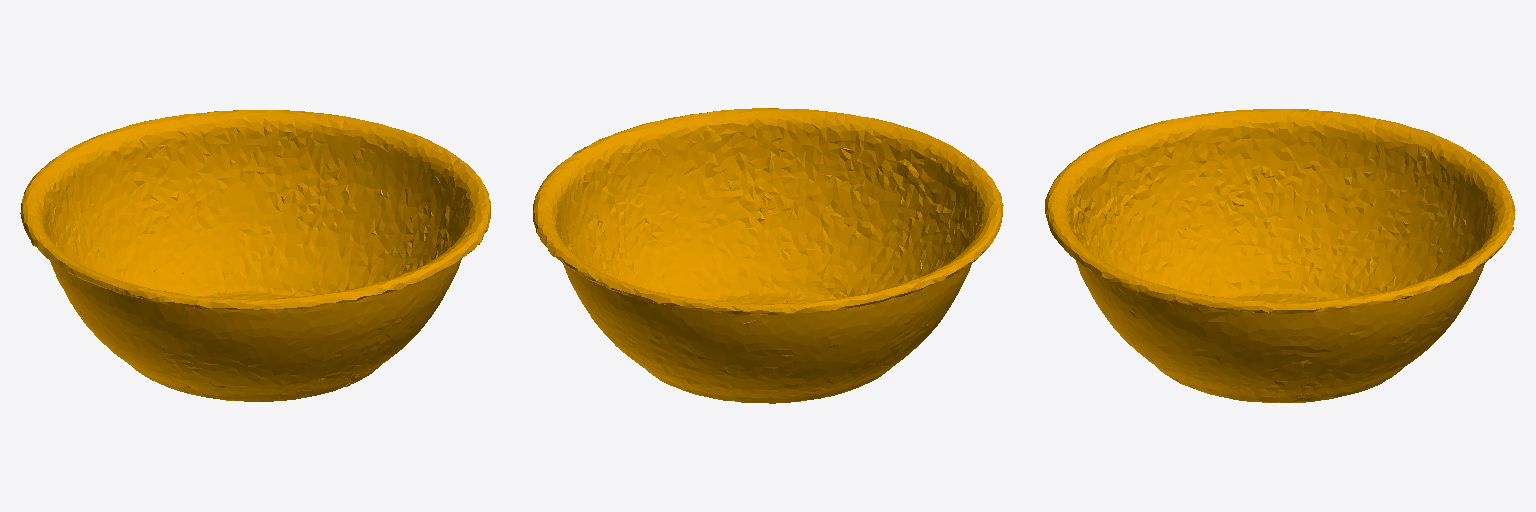
The robot description file, URDF, robot "024_bowl":
<?xml version="1.0" ?>
<robot name="024_bowl">
  <link name="base_link">
    <inertial>
      <mass value="0.07490341764491669"/>
      <origin rpy="-1.45219 -1.56084  1.46528" xyz="-0.01474 -0.04373  0.03129"/>
      <inertia ixx="0.00017920898142460696" ixy="2.911121647522019e-20" ixz="-6.386784377724828e-22" iyy="0.00010619687716041731" iyz="3.1237213932856894e-22" izz="0.00010598344033937154"/>
    </inertial>
    <collision name="024_bowl__collision">
      <origin rpy="0 0 0" xyz="0 0 0"/>
      <geometry>
        <mesh filename="./024_bowl_250_collision.stl" scale="1.0 1.0 1.0"/>
      </geometry>
    </collision>
    <visual name="024_bowl__visual">
      <origin rpy="0 0 0" xyz="0 0 0"/>
      <geometry>
        <mesh filename="./textured.obj" scale="1.0 1.0 1.0"/>
      </geometry>
    </visual>
  </link>
</robot>

--- Facts derived from the render (not from the file) ---
Views: 3 orthographic renders of the robot side by side, from view 1: azimuth 30°, elevation 25°; view 2: azimuth 150°, elevation 25°; view 3: azimuth 270°, elevation 25°.
Robot: 024_bowl — 1 links, 0 joints (none); root link base_link; default pose: all joints at 0.
Visible links, largest first — view 1: base_link; view 2: base_link; view 3: base_link.
Link boxes in pixels (x1=…): base_link: x1=20, y1=110, x2=490, y2=401; base_link: x1=533, y1=108, x2=1003, y2=403; base_link: x1=1045, y1=109, x2=1515, y2=402.
Size in the robot's own frame: 0.1615 by 0.1612 by 0.055 metres.
1 mesh visuals loaded from 1 distinct referenced files (1 OBJ).